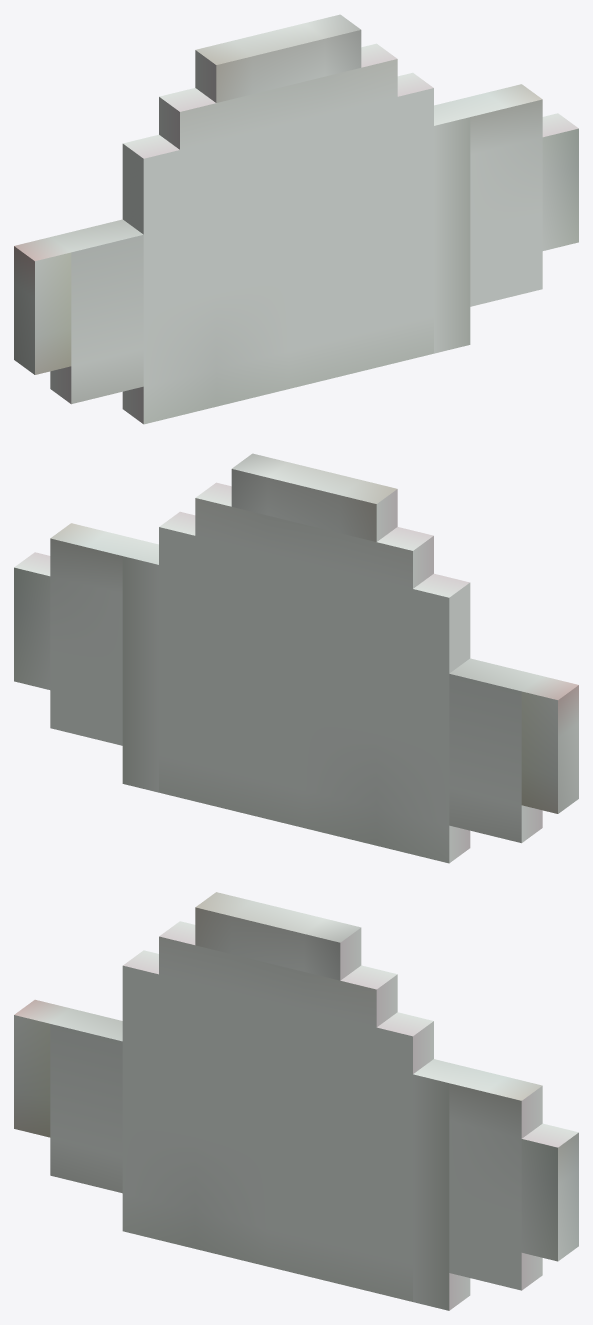
The model's file is CloudDecor_06.fbx.
3 views of the same model, one above another, from view 1: azimuth 30°, elevation 25°; view 2: azimuth 150°, elevation 25°; view 3: azimuth 330°, elevation 25° (orthographic).
Parts seen in each view (by area): view 1: CloudDecor_06; view 2: CloudDecor_06; view 3: CloudDecor_06.
Boxes of the visible parts, x1=… form: CloudDecor_06: x1=14, y1=14, x2=578, y2=424; CloudDecor_06: x1=14, y1=453, x2=578, y2=863; CloudDecor_06: x1=14, y1=892, x2=578, y2=1310.
Size of the model in its own units: 75 by 5 by 45.
Materials: 1 (1 with a texture image).
